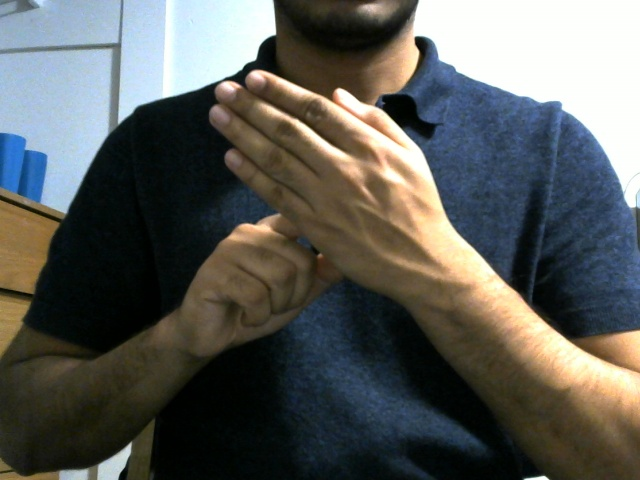Project: (182, 69, 465, 353)
